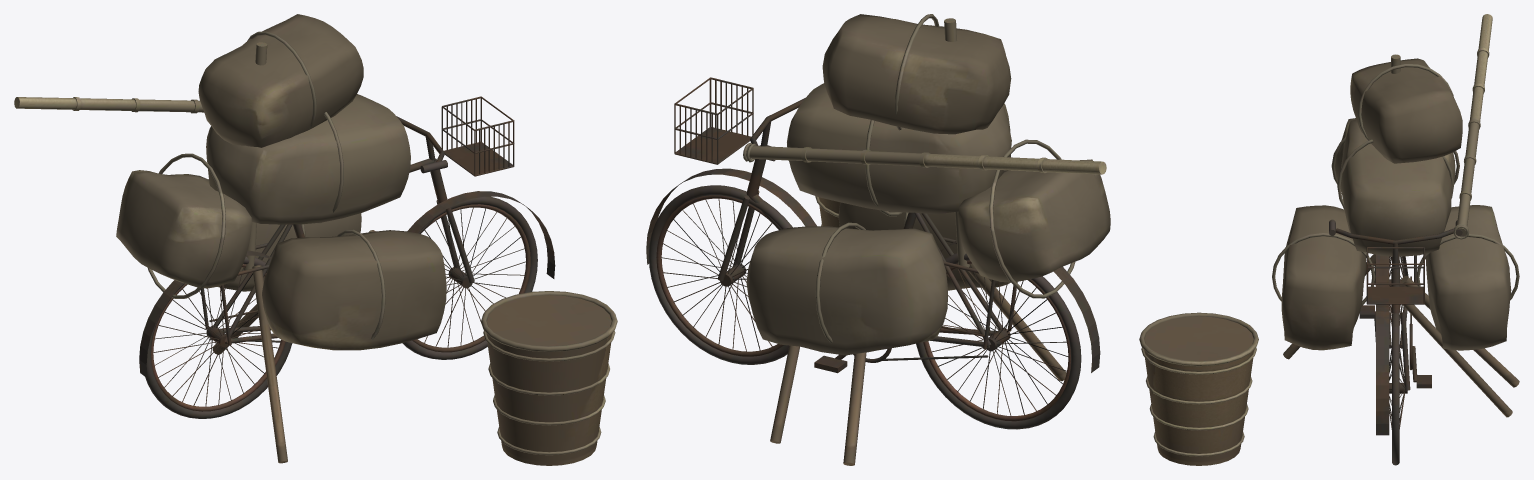
File: xe_dap_tho.glb
3 renders of one model, left to right at view 1: azimuth 30°, elevation 25°; view 2: azimuth 150°, elevation 25°; view 3: azimuth 270°, elevation 25°, orthographic. The views are drawn at different scales.
Parts seen in each view (by area): view 1: XeDap_baked; view 2: XeDap_baked; view 3: XeDap_baked.
Boxes of the visible parts, left/top/right/bottom form: XeDap_baked: left=14, top=14, right=617, bottom=465; XeDap_baked: left=646, top=14, right=1110, bottom=465; XeDap_baked: left=1139, top=14, right=1519, bottom=465.
Size of the model in its own units: 2.2 by 1.62 by 1.74.
Materials: 1 (1 with a texture image).
